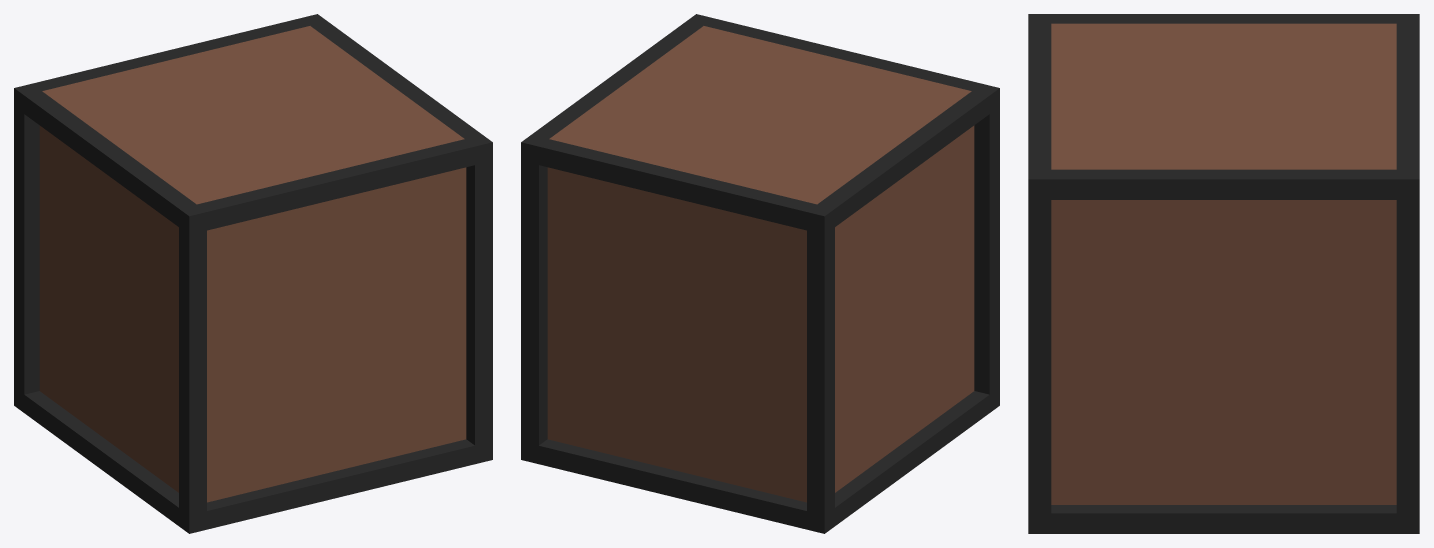
The model's file is Path_Block.fbx.
3 renders of one model, left to right at view 1: azimuth 30°, elevation 25°; view 2: azimuth 150°, elevation 25°; view 3: azimuth 270°, elevation 25°, orthographic. The views are drawn at different scales.
Visible parts, largest first — view 1: Cube; view 2: Cube; view 3: Cube.
Part boxes in pixels (x1=…): Cube: x1=14, y1=14, x2=492, y2=533; Cube: x1=521, y1=14, x2=999, y2=533; Cube: x1=1028, y1=14, x2=1419, y2=533.
Size of the model in its own units: 200 by 200 by 200.
